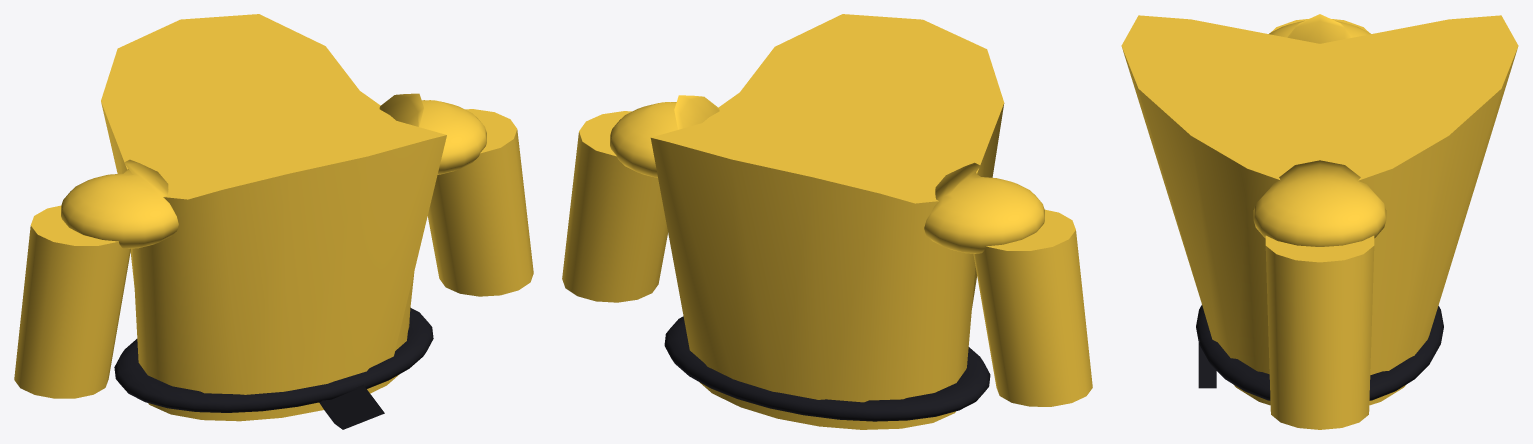
Rendered from top_fun_0.glb.
3 renders of one model, left to right at view 1: azimuth 30°, elevation 25°; view 2: azimuth 150°, elevation 25°; view 3: azimuth 270°, elevation 25°, orthographic. The views are drawn at different scales.
Bounding box in the file's own units: 0.774 × 0.4444 × 0.4947.
